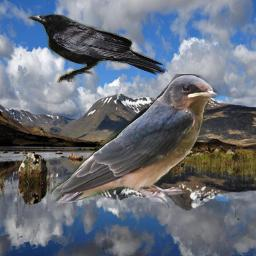Crow: (28, 13, 167, 84)
Swallow: (50, 74, 219, 210)
